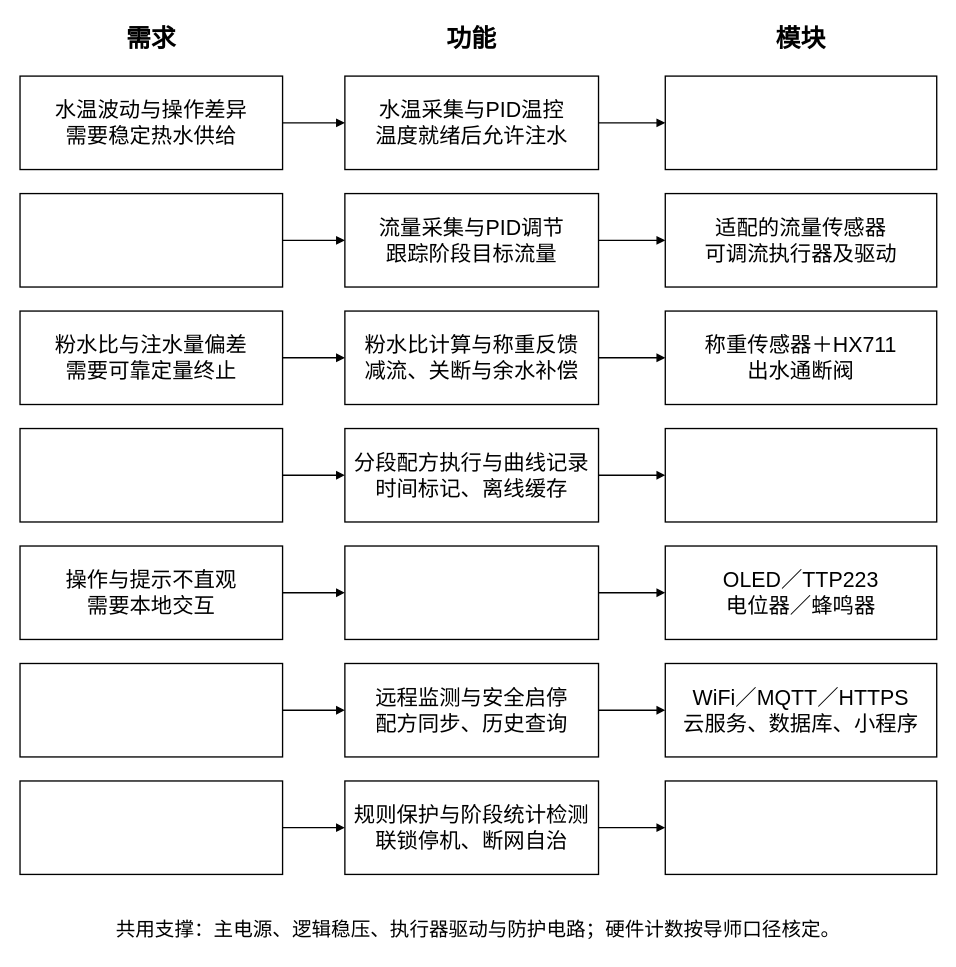
The diagram is 956 pixels wide and 967 high, and some of its shapes have lost their labels. Here are the shapes that lost their labels. From the top down, the box of each, then its label:
(664, 75, 937, 170): DS18B20／NTC PTC及功率驱动
(19, 193, 283, 287): 人工注水流量不稳 需要按阶段调节流量
(19, 427, 283, 522): 配方难重复、数据分散 需要记录与追溯
(664, 427, 937, 522): STM32状态机 DS3231／W25Q64
(344, 545, 599, 640): 参数设置、状态显示 完成提醒与异常告警
(19, 662, 283, 757): 设备与记录相互孤立 需要联网管理
(19, 780, 283, 875): 异常识别与断网风险 需要独立安全保护
(664, 780, 937, 875): STM32保护逻辑／继电器 MAD、EWMA检测服务
